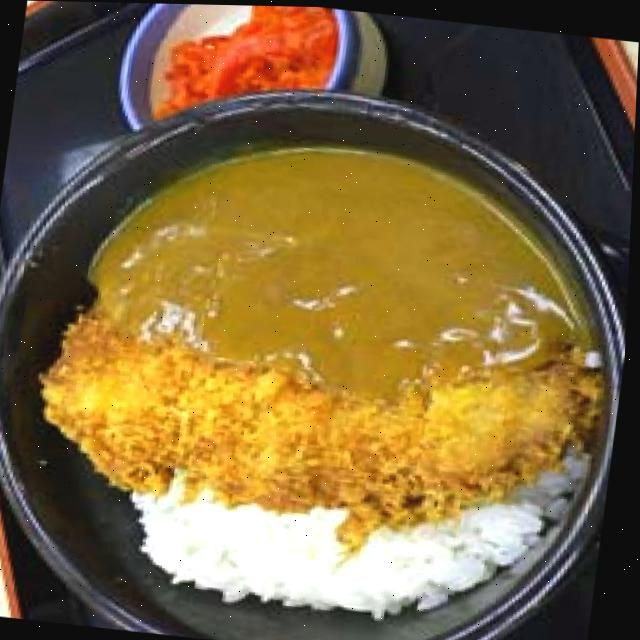猪肉菜式: (0, 45, 638, 640)
